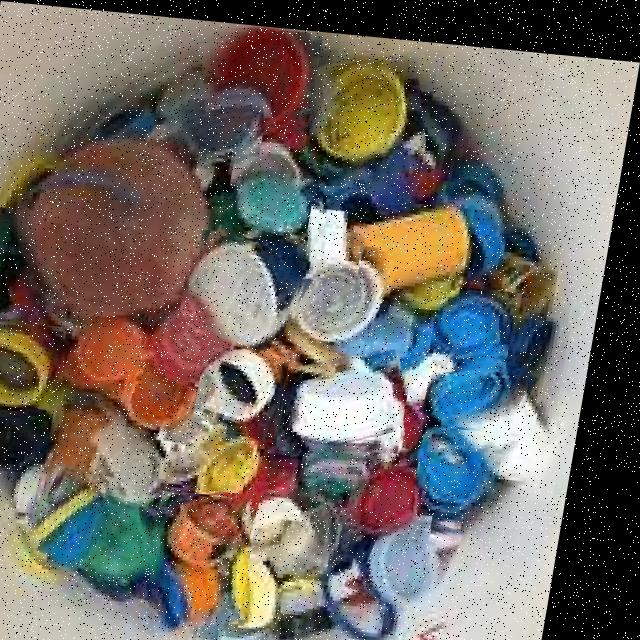litter: (296, 39, 440, 183), (149, 483, 275, 630), (185, 223, 316, 346), (286, 338, 424, 449), (192, 18, 323, 130), (295, 233, 404, 351), (365, 493, 479, 601), (152, 63, 273, 161), (432, 333, 547, 431), (43, 463, 150, 566), (102, 475, 195, 593), (205, 332, 310, 433), (353, 434, 457, 535), (146, 287, 247, 383), (128, 339, 220, 437), (228, 147, 327, 236), (425, 415, 516, 510), (56, 399, 144, 495), (75, 298, 164, 392), (0, 314, 86, 406), (176, 481, 274, 558), (447, 275, 526, 366), (307, 177, 378, 274), (228, 535, 307, 620), (0, 203, 49, 329), (140, 148, 155, 170)
